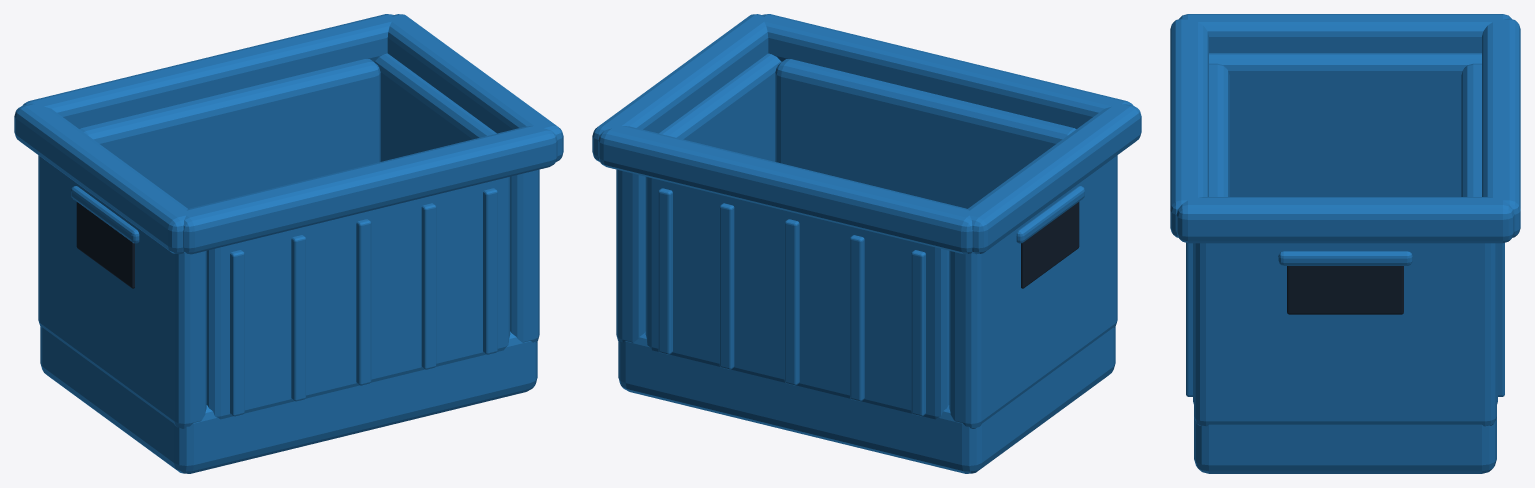
Rendered from reusable_plastic_tote.glb.
3 views of the same model, side by side, from view 1: azimuth 30°, elevation 25°; view 2: azimuth 150°, elevation 25°; view 3: azimuth 270°, elevation 25° (orthographic). The views are drawn at different scales.
Parts seen in each view (by area): view 1: TOTE_end_-0.31, TOTE_end_0.31, TOTE_side_-0.46, TOTE_bottom, TOTE_rim_y_-0.36, TOTE_rim_y_0.36, TOTE_side_0.46, TOTE_rim_x_-0.5, TOTE_rim_x_0.5, TOTE_handle_recess_-0.506, TOTE_front_rib_0, TOTE_front_rib_0.18 (+4 smaller); view 2: TOTE_end_0.31, TOTE_end_-0.31, TOTE_side_-0.46, TOTE_bottom, TOTE_rim_y_0.36, TOTE_rim_y_-0.36, TOTE_side_0.46, TOTE_rim_x_-0.5, TOTE_rim_x_0.5, TOTE_handle_recess_-0.506, TOTE_back_rib_0, TOTE_back_rib_0.18 (+4 smaller); view 3: TOTE_side_0.46, TOTE_side_-0.46, TOTE_rim_x_0.5, TOTE_bottom, TOTE_rim_x_-0.5, TOTE_rim_y_0.36, TOTE_rim_y_-0.36, TOTE_handle_recess_0.506, TOTE_end_0.31, TOTE_end_-0.31, TOTE_handle_top_0.506, TOTE_back_rib_0.35 (+1 smaller).
Part boxes in pixels (x1,y1,x2,y2): TOTE_end_-0.31: (206,177,510,419); TOTE_end_0.31: (79,59,380,208); TOTE_side_-0.46: (38,155,206,428); TOTE_bottom: (40,326,537,473); TOTE_rim_y_-0.36: (183,124,557,254); TOTE_rim_y_0.36: (22,14,393,128); TOTE_side_0.46: (374,53,539,342); TOTE_rim_x_-0.5: (14,104,189,254); TOTE_rim_x_0.5: (387,14,563,161); TOTE_handle_recess_-0.506: (76,202,134,288); TOTE_front_rib_0: (356,219,371,385); TOTE_front_rib_0.18: (421,203,436,369); TOTE_end_0.31: (645,177,949,419); TOTE_end_-0.31: (775,59,1076,208); TOTE_side_-0.46: (949,155,1117,428); TOTE_bottom: (618,326,1115,473); TOTE_rim_y_0.36: (598,124,972,254); TOTE_rim_y_-0.36: (762,14,1133,128); TOTE_side_0.46: (616,53,781,342); TOTE_rim_x_-0.5: (965,104,1141,254); TOTE_rim_x_0.5: (592,14,768,161); TOTE_handle_recess_-0.506: (1021,202,1079,288); TOTE_back_rib_0: (784,219,799,385); TOTE_back_rib_0.18: (719,203,734,369); TOTE_side_0.46: (1194,243,1496,426); TOTE_side_-0.46: (1209,53,1481,196); TOTE_rim_x_0.5: (1176,197,1514,243); TOTE_bottom: (1194,417,1496,473); TOTE_rim_x_-0.5: (1179,14,1511,53); TOTE_rim_y_0.36: (1482,18,1520,237); TOTE_rim_y_-0.36: (1170,18,1208,237); TOTE_handle_recess_0.506: (1287,266,1403,314); TOTE_end_0.31: (1461,63,1497,403); TOTE_end_-0.31: (1193,63,1229,403); TOTE_handle_top_0.506: (1278,251,1412,265); TOTE_back_rib_0.35: (1498,243,1504,396).
Size of the model in its own units: 1.09 by 0.7075 by 0.81.
